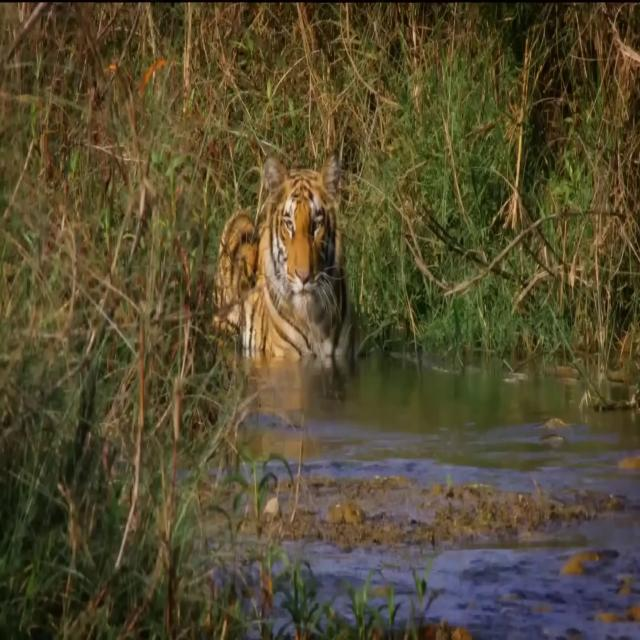tiger: (212, 149, 364, 357)
